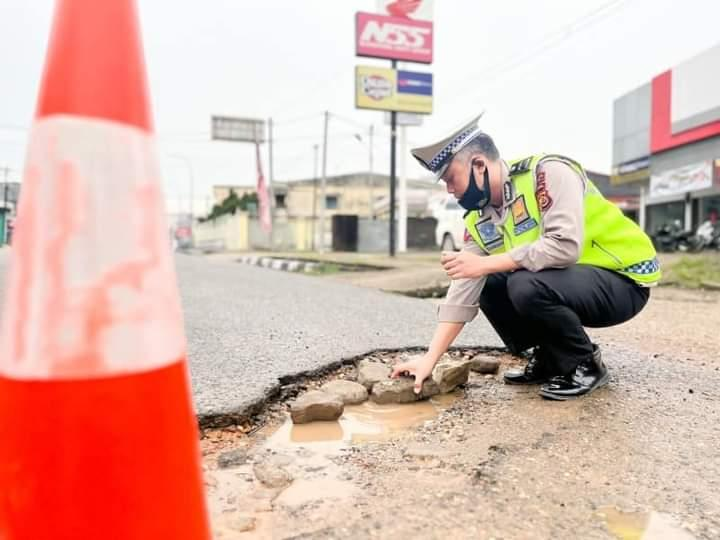Pothole: (177, 339, 697, 540)
